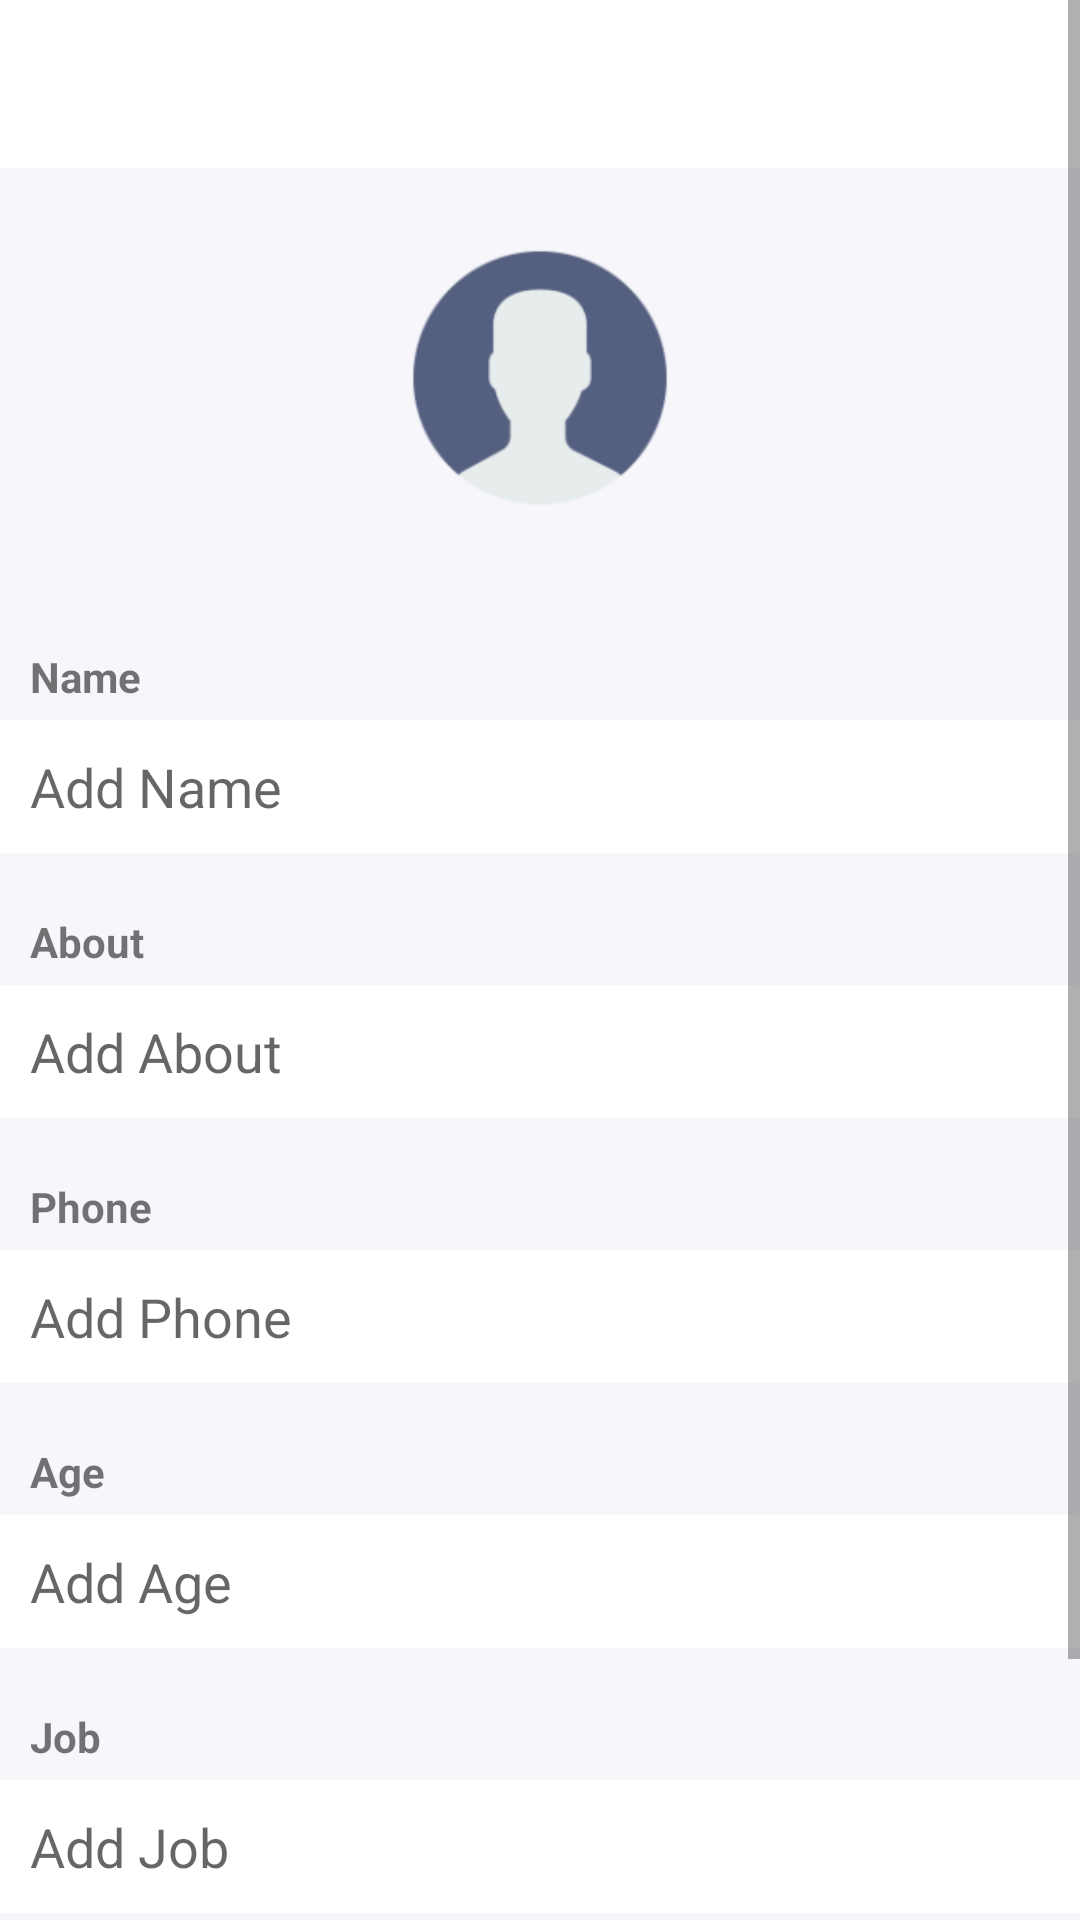

Screen size 1080px x 1920px. Icon name, then its center in pixels as point (x, y):
user: point (540, 363)
